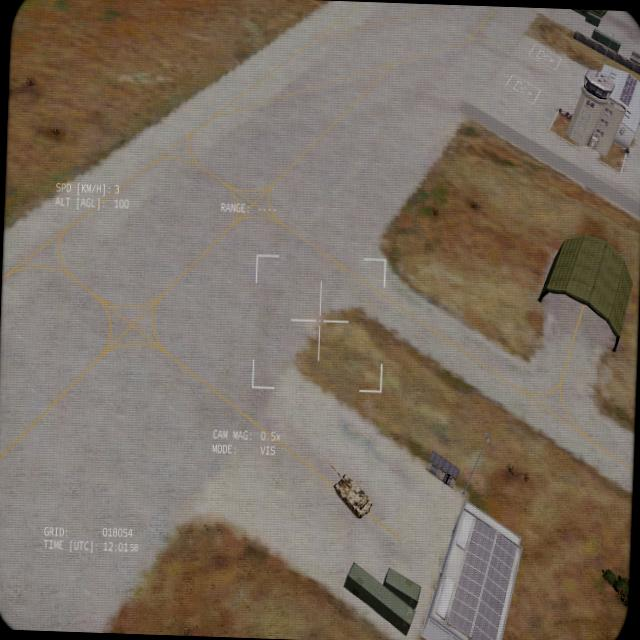tank: (326, 462, 374, 519)
